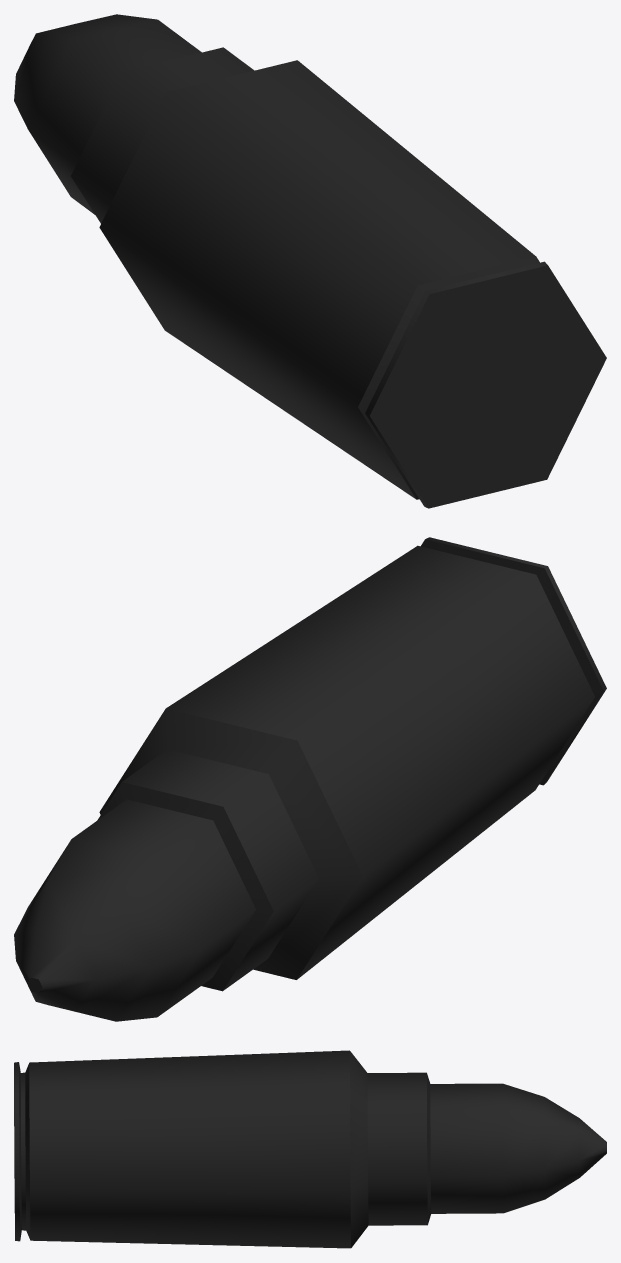
File: bullet1.FBX
The picture shows the model from 3 angles, top to bottom: view 1: azimuth 30°, elevation 25°; view 2: azimuth 150°, elevation 25°; view 3: azimuth 270°, elevation 25°; orthographic projection. The views are drawn at different scales.
Parts seen in each view (by area): view 1: Bullet1; view 2: Bullet1; view 3: Bullet1.
Boxes of the visible parts, bbox=[...] form: Bullet1: bbox=[14, 14, 606, 508]; Bullet1: bbox=[14, 537, 606, 1021]; Bullet1: bbox=[14, 1050, 606, 1248].
Size of the model in its own units: 10.75 by 32.07 by 9.31.
1 material, 1 textured.
